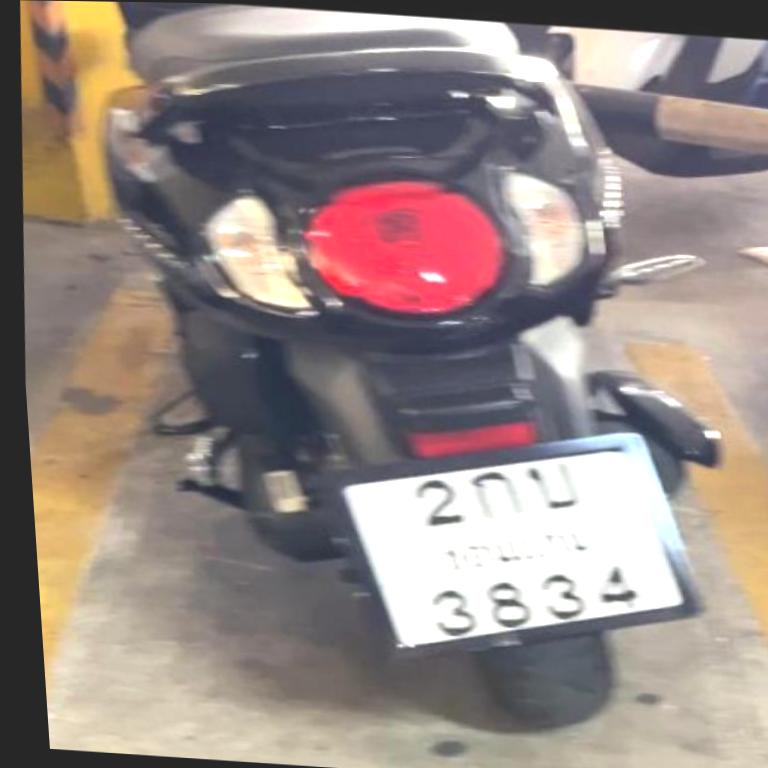license plate: (335, 435, 694, 649)
